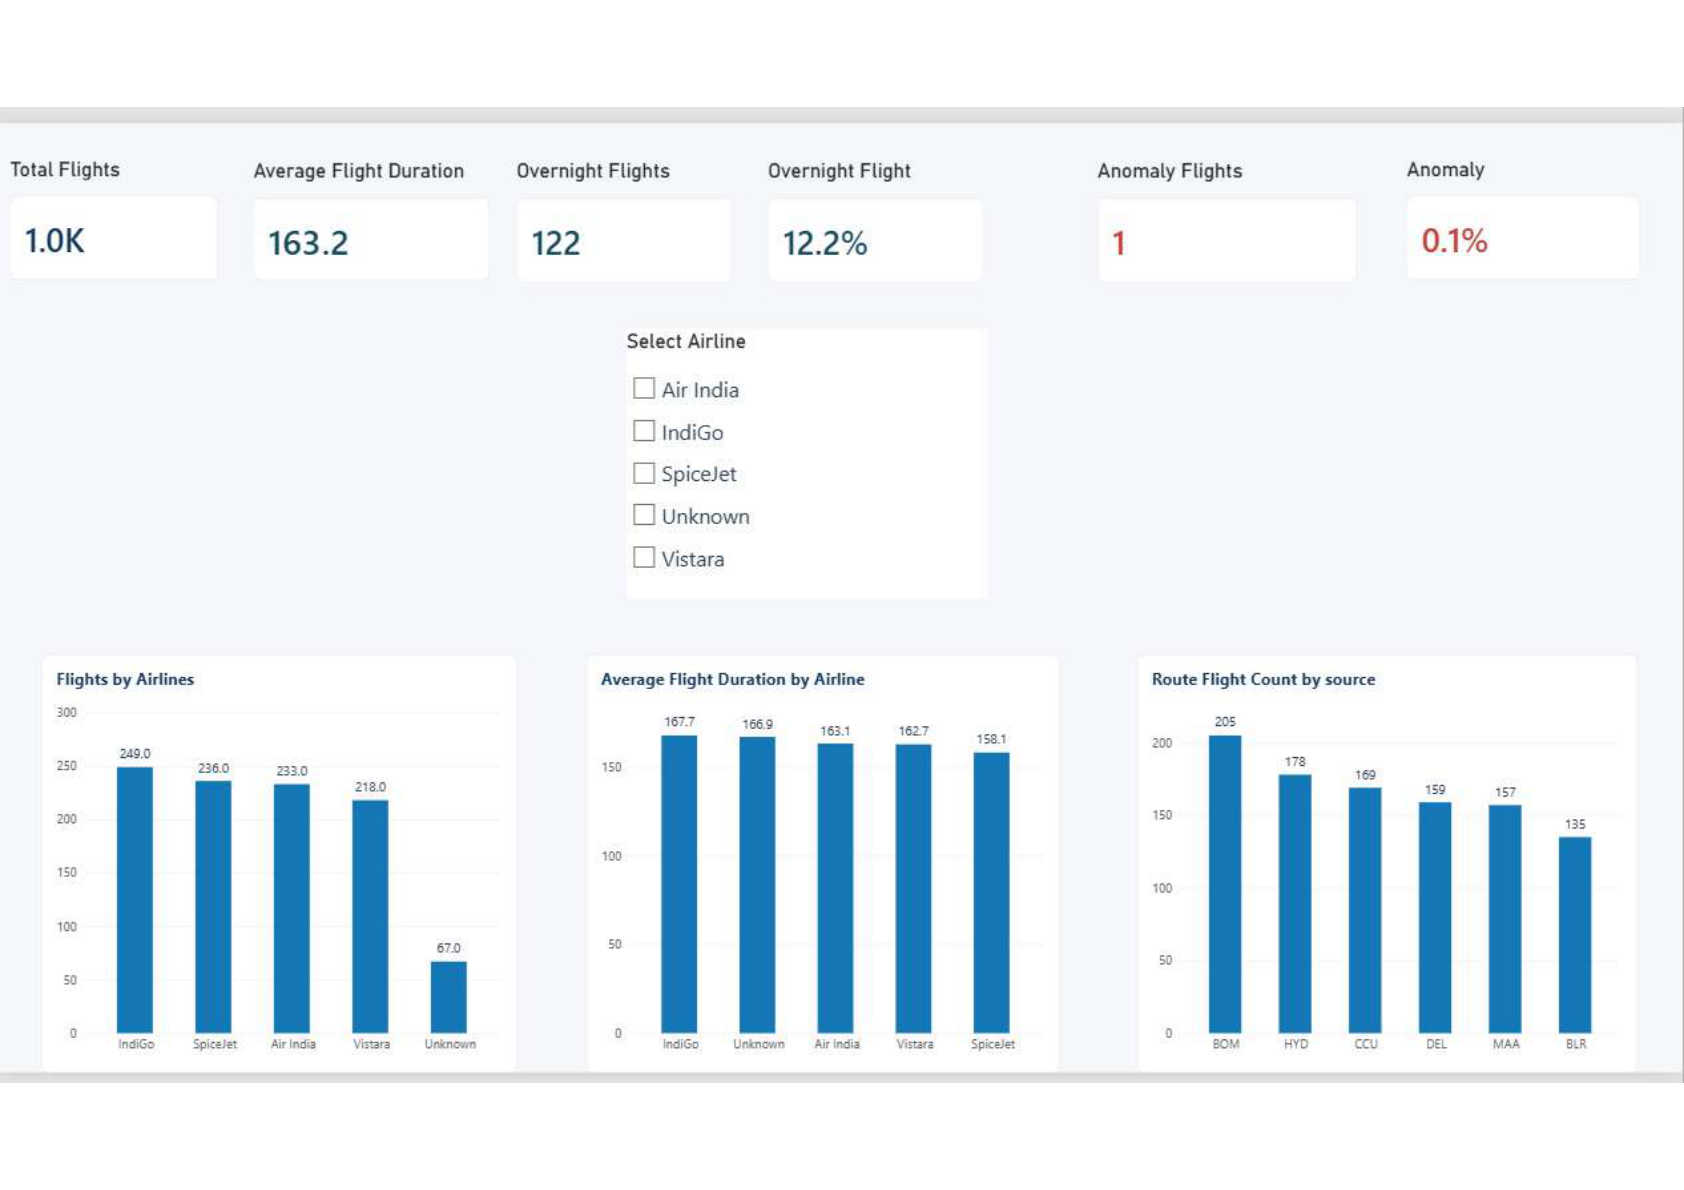

What the dashboard file says about the page in this screenshot:
{"tool":"powerbi","page":{"name":"Overview","canvas":[1920,1080],"ordinal":0},"visuals":[{"type":"cardVisual","title":"Total Flights","fields":{"Data":["fact_flights.Total Flights"]},"box":[16.7,38.1,237.5,140],"z":0},{"type":"cardVisual","title":"Average Flight Duration","fields":{"Data":["fact_flights.Average Flight Duration"]},"box":[292.9,40.5,269,138.1],"z":1000},{"type":"cardVisual","title":"Overnight Flight","fields":{"Data":["fact_flights.Overnight Flight %"]},"box":[878.6,40.5,245,140],"z":2000},{"type":"cardVisual","title":"Anomaly","fields":{"Data":["fact_flights.Anomaly %"]},"box":[1604.8,38.1,265,140],"z":3000},{"type":"clusteredColumnChart","title":"Flights by Airlines","fields":{"Category":["dim_airline.airline_name"],"Y":["fact_flights.Total Flights"]},"box":[52.4,604.8,540.5,476.2],"z":4000},{"type":"clusteredColumnChart","fields":{"Category":["dim_route.source"],"Y":["fact_flights.Route Flight Count"]},"box":[1300,604.8,569,476.2],"z":5000},{"type":"cardVisual","title":"Overnight Flights","fields":{"Data":["fact_flights.Overnight Flights"]},"box":[592.9,40.5,245.2,140.5],"z":6000},{"type":"clusteredColumnChart","title":"Average Flight Duration by Airline","fields":{"Category":["dim_airline.airline_name"],"Y":["fact_flights.Average Flight Duration"]},"box":[671.4,604.8,538.1,476.2],"z":7000},{"type":"slicer","title":"Select Airline","fields":{"Values":["dim_airline.airline_name"]},"box":[716.7,233.3,411.9,307.1],"z":8000},{"type":"cardVisual","title":"Anomaly Flights","fields":{"Data":["fact_flights.Anomaly Flights"]},"box":[1254.8,40.5,295.2,140.5],"z":9000}]}

Visuals, with their boxes on the page's 1920x1080 design canvas (x1, y1, x2, y2). These are canvas units, not pixel positions in the 1684x1190 screenshot, which may show the page scaled, cropped or inside an application window:
"Total Flights" cardVisual: <bbox>17, 38, 254, 178</bbox>
"Average Flight Duration" cardVisual: <bbox>293, 40, 562, 179</bbox>
"Overnight Flight" cardVisual: <bbox>879, 40, 1124, 180</bbox>
"Anomaly" cardVisual: <bbox>1605, 38, 1870, 178</bbox>
"Flights by Airlines" clusteredColumnChart: <bbox>52, 605, 593, 1081</bbox>
clusteredColumnChart - dim_route.source x fact_flights.Route Flight Count: <bbox>1300, 605, 1869, 1081</bbox>
"Overnight Flights" cardVisual: <bbox>593, 40, 838, 181</bbox>
"Average Flight Duration by Airline" clusteredColumnChart: <bbox>671, 605, 1210, 1081</bbox>
"Select Airline" slicer: <bbox>717, 233, 1129, 540</bbox>
"Anomaly Flights" cardVisual: <bbox>1255, 40, 1550, 181</bbox>
